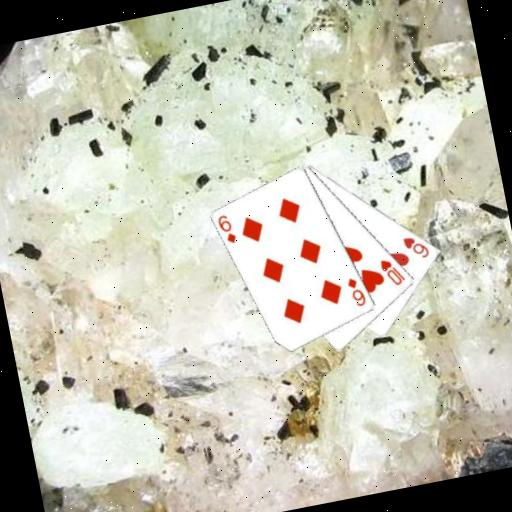10H: (377, 254, 408, 290)
6D: (344, 273, 369, 310), (214, 210, 239, 247)
6H: (399, 231, 431, 263)
